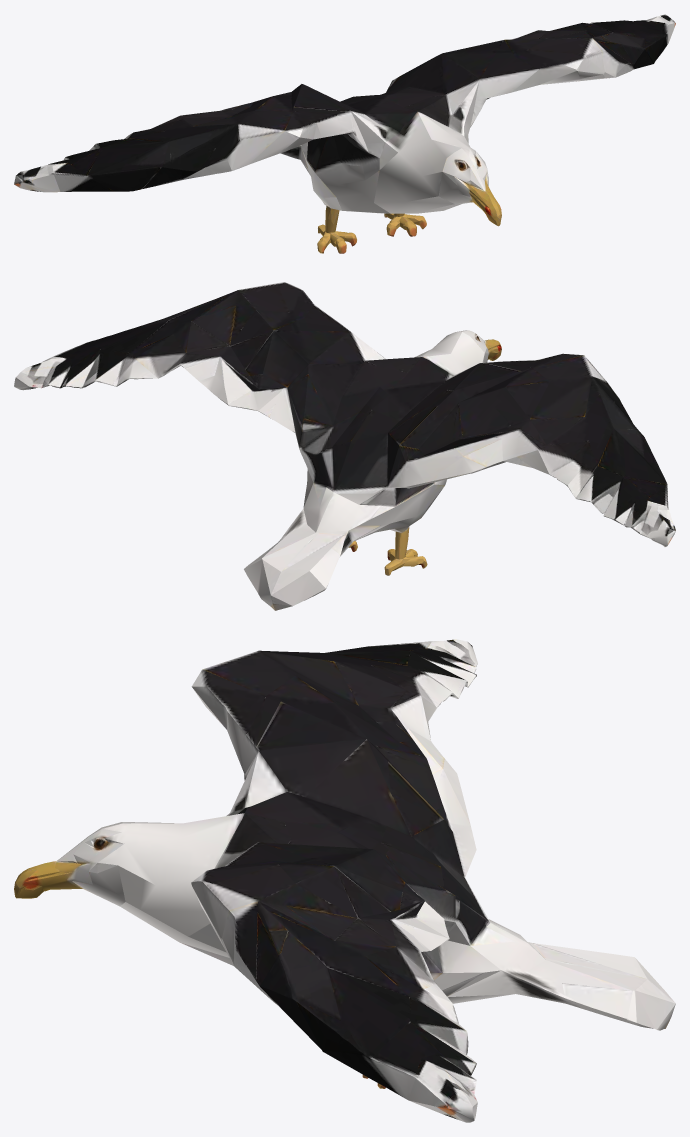
Rendered from gull-standing.glb.
The picture shows the model from 3 angles, top to bottom: view 1: azimuth 30°, elevation 25°; view 2: azimuth 150°, elevation 25°; view 3: azimuth 270°, elevation 25°; orthographic projection. The views are drawn at different scales.
Visible parts, largest first — view 1: output_unwrapped; view 2: output_unwrapped; view 3: output_unwrapped.
Boxes of the visible parts, box(x1,y1,x2,y2) form: output_unwrapped: box(14, 14, 675, 253); output_unwrapped: box(14, 282, 675, 610); output_unwrapped: box(14, 639, 675, 1122).
Size of the model in its own units: 2.14 by 0.6 by 1.29.
1 material, 1 textured.
